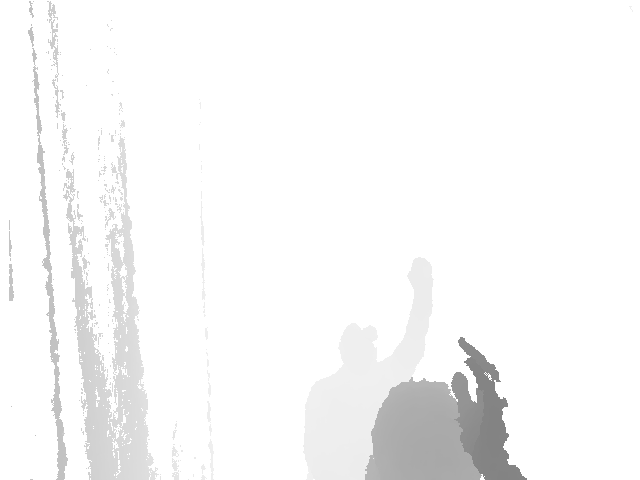hand: (450, 338, 511, 463), (407, 256, 435, 295)
head: (363, 379, 483, 480), (338, 326, 377, 369)
person: (300, 257, 434, 480), (363, 338, 528, 480)
